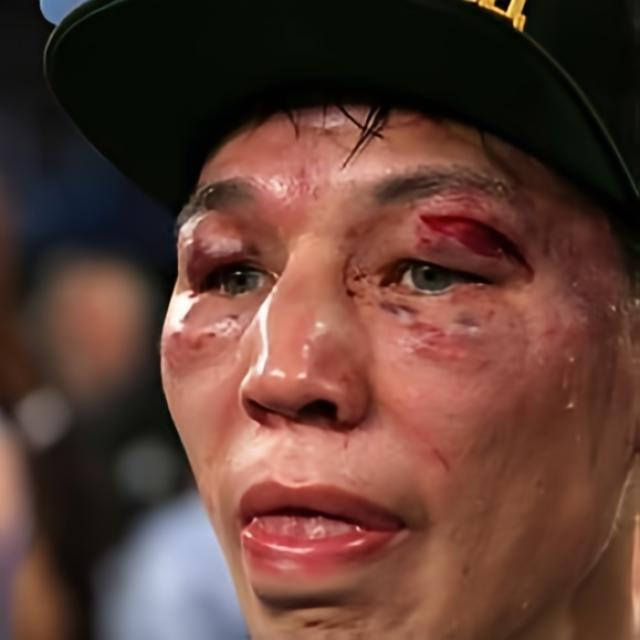sad: (159, 95, 640, 639)
